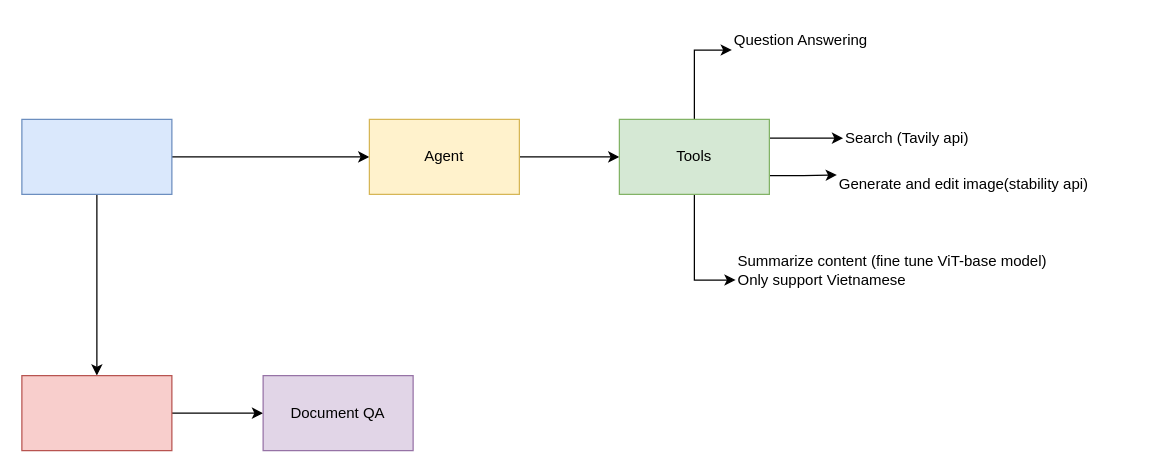
Image size: 1154x473. Some labels were removed from this diagram. Each missing label, with the box of its shape:
Chatbot: (21, 118, 172, 194)
Upload document: (21, 374, 172, 451)
